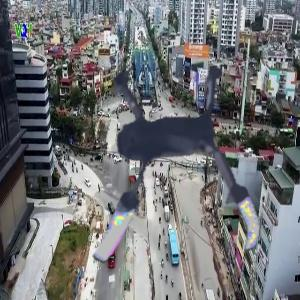drone: (36, 34, 293, 291)
